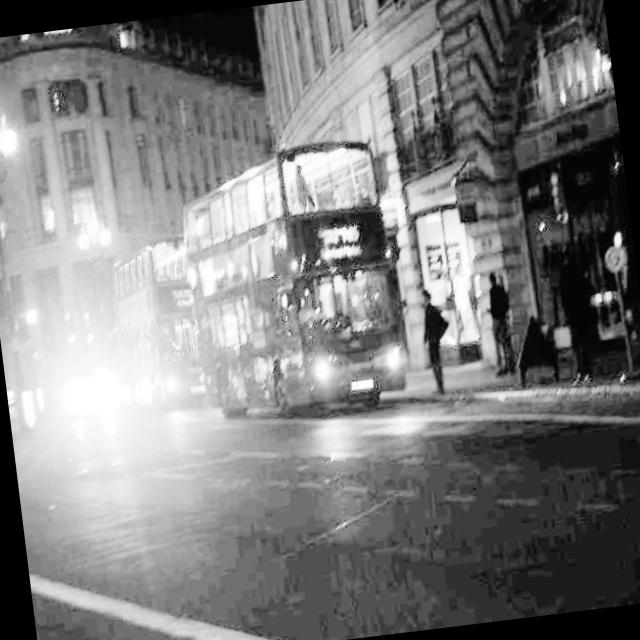Bus: (160, 138, 427, 451), (90, 208, 213, 465)
